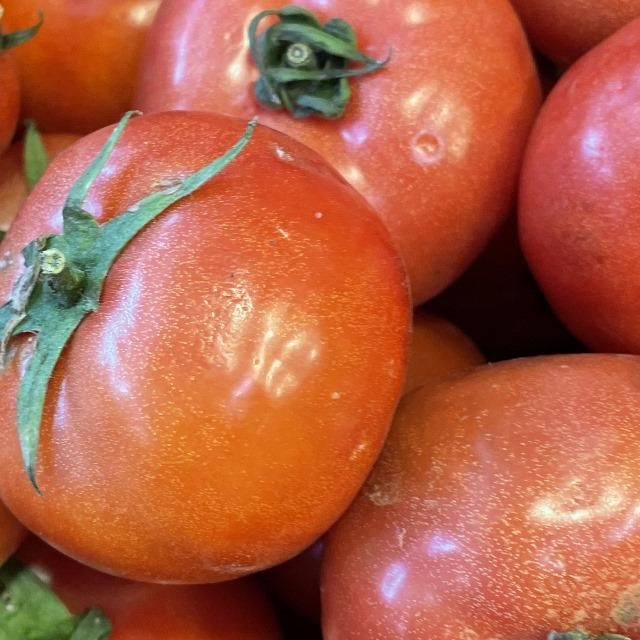tomato: (0, 90, 420, 577), (322, 312, 640, 640)
